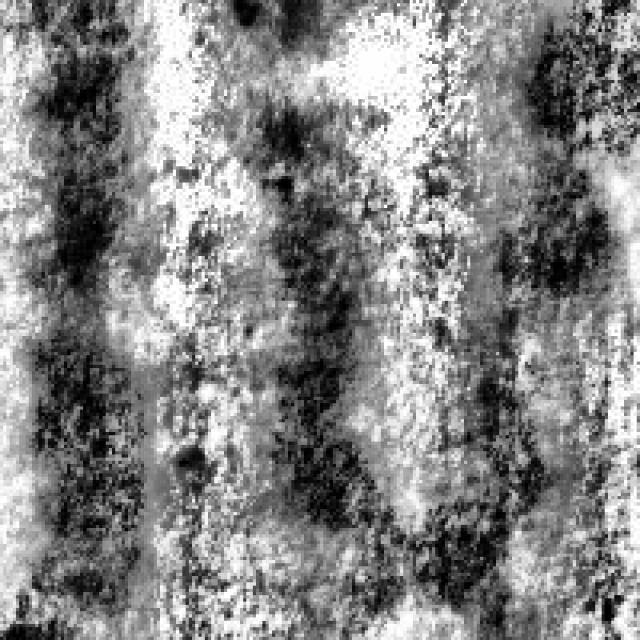Scratches: (253, 202, 406, 576), (486, 0, 634, 323), (10, 320, 150, 614), (413, 380, 544, 628), (16, 45, 144, 285), (218, 0, 336, 67)
